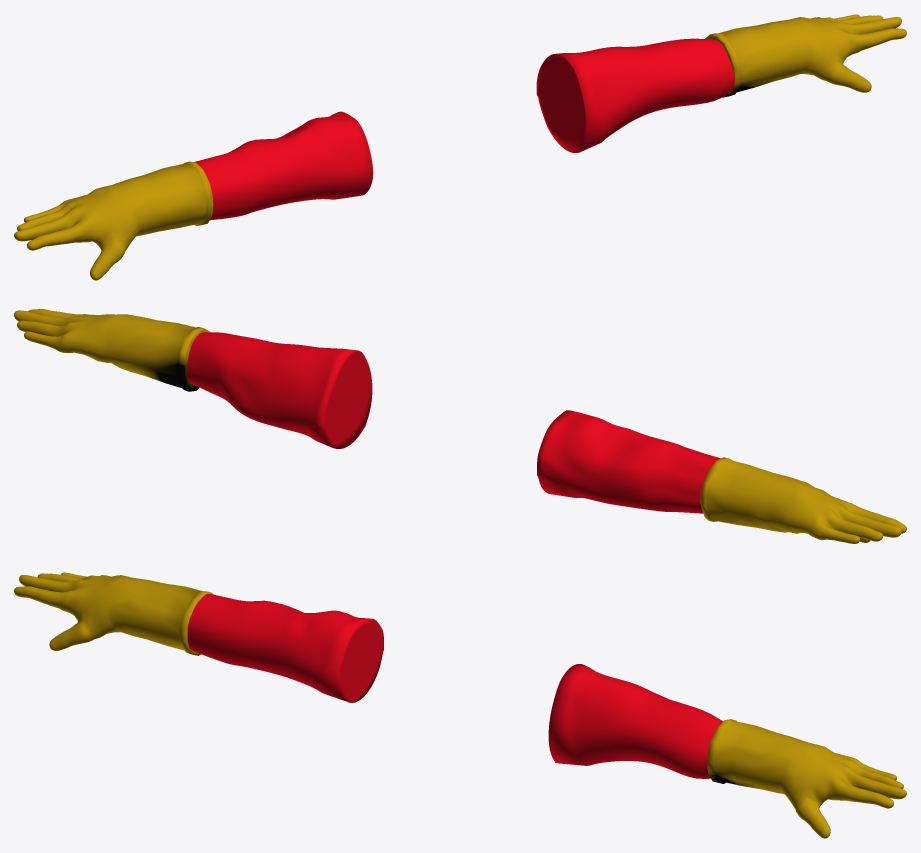
Rendered from Only Arms.fbx.
3 renders of one model, top to bottom at view 1: azimuth 30°, elevation 25°; view 2: azimuth 150°, elevation 25°; view 3: azimuth 330°, elevation 25°, orthographic.
Parts seen in each view (by area): view 1: Without Legs.001, Without Legs.002; view 2: Without Legs.001, Without Legs.002; view 3: Without Legs.001, Without Legs.002.
Part boxes in pixels (left/top/right/bottom): Without Legs.001: left=194, top=38, right=734, bottom=220; Without Legs.002: left=14, top=14, right=906, bottom=280; Without Legs.001: left=186, top=332, right=720, bottom=513; Without Legs.002: left=14, top=309, right=906, bottom=543; Without Legs.001: left=187, top=593, right=722, bottom=778; Without Legs.002: left=14, top=572, right=906, bottom=838.
Size of the model in its own units: 232 by 22.98 by 24.61.
